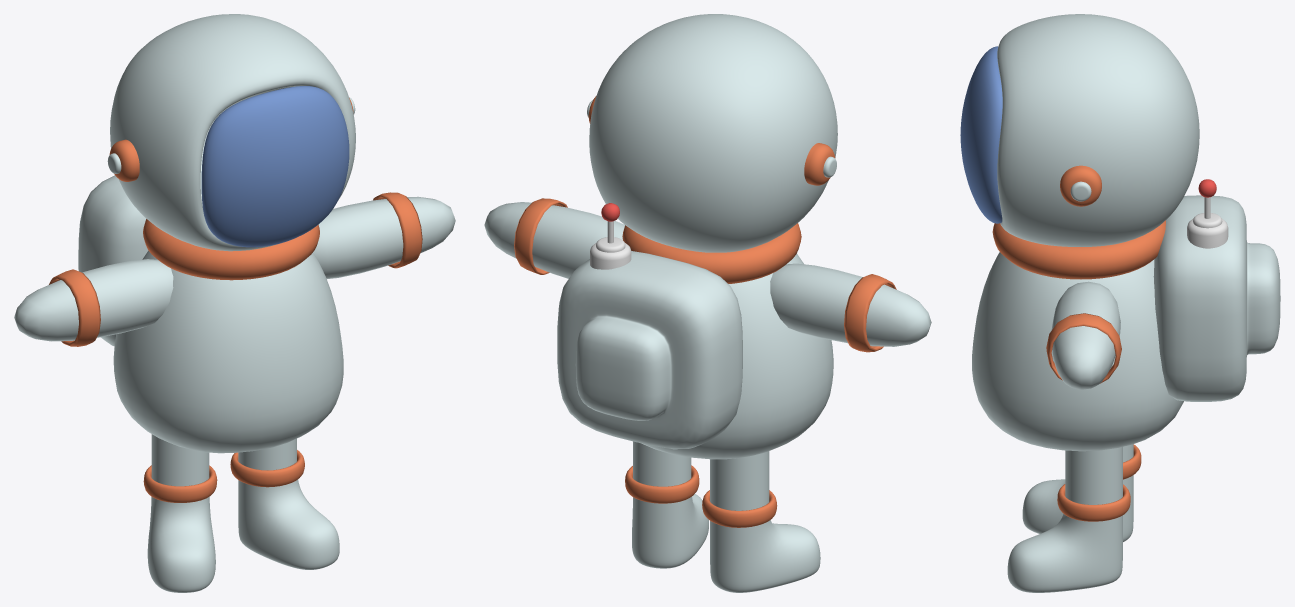
The model's file is astro.fbx.
3 renders of one model, left to right at view 1: azimuth 30°, elevation 25°; view 2: azimuth 150°, elevation 25°; view 3: azimuth 270°, elevation 25°, orthographic.
Parts seen in each view (by area): view 1: Cube.003, Cube.001, Cube.002, Cube.009, Cube.012, Cube.004, Cube.006, Torus, Cube.008, Cube.010, Cube.007, Cube.005 (+2 smaller); view 2: Cube.001, Cube.008, Cube.003, Cube.012, Cube.009, Cube.004, Cube.006, Torus, Cube.010, Cube.007, Cube.005, Cube.011 (+2 smaller); view 3: Cube.001, Cube.003, Cube.008, Cube.004, Cube.002, Torus, Cube.006, Cube.012, Cube.007, Cube.005, Cylinder.002, Cylinder.
Boxes of the visible parts, x1,y1,x2,y2 form: Cube.003: [113, 250, 343, 453]; Cube.001: [110, 14, 355, 251]; Cube.002: [201, 86, 349, 247]; Cube.009: [14, 259, 173, 341]; Cube.012: [147, 434, 215, 592]; Cube.004: [238, 438, 339, 569]; Cube.006: [313, 196, 455, 278]; Torus: [143, 219, 319, 280]; Cube.008: [78, 175, 148, 346]; Cube.010: [49, 269, 100, 346]; Cube.007: [373, 192, 422, 268]; Cube.005: [230, 450, 304, 487]; Cube.001: [589, 14, 837, 252]; Cube.008: [557, 251, 742, 449]; Cube.003: [641, 253, 833, 459]; Cube.012: [710, 451, 820, 592]; Cube.009: [770, 263, 931, 346]; Cube.004: [632, 441, 708, 568]; Cube.006: [484, 202, 624, 278]; Torus: [622, 223, 801, 283]; Cube.010: [844, 274, 896, 352]; Cube.007: [514, 198, 567, 274]; Cube.005: [625, 465, 699, 503]; Cube.011: [702, 490, 777, 527]; Cube.001: [997, 14, 1199, 246]; Cube.003: [972, 252, 1183, 451]; Cube.008: [1153, 195, 1280, 401]; Cube.004: [1007, 447, 1122, 592]; Cube.002: [960, 46, 1002, 223]; Torus: [992, 220, 1165, 279]; Cube.006: [1051, 281, 1120, 389]; Cube.012: [1022, 444, 1133, 541]; Cube.007: [1046, 313, 1121, 383]; Cube.005: [1057, 484, 1130, 521]; Cylinder.002: [1060, 165, 1101, 206]; Cylinder: [1187, 197, 1228, 248].
Size of the model in its own units: 215 by 250 by 137.
